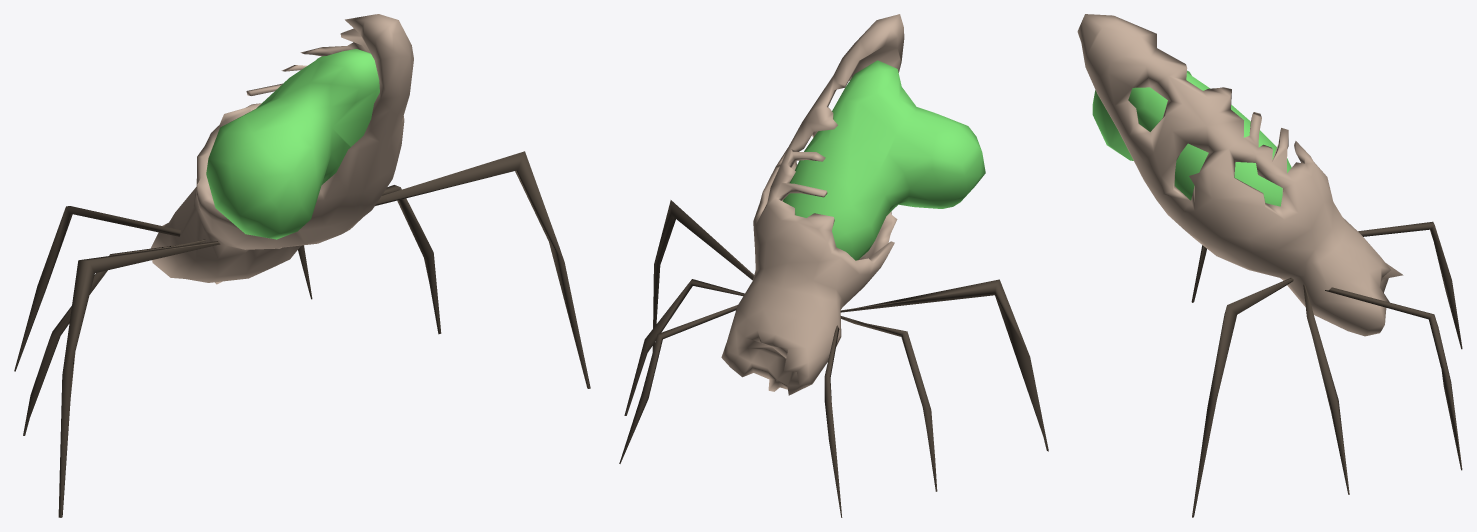
File: Context2_creature_attempt.fbx
3 renders of one model, left to right at view 1: azimuth 30°, elevation 25°; view 2: azimuth 150°, elevation 25°; view 3: azimuth 270°, elevation 25°, orthographic. The views are drawn at different scales.
Parts seen in each view (by area): view 1: Blob.001, Cube.001, BezierCurve.003, BezierCurve.006, BezierCurve.008, BezierCurve.007, BezierCurve.004; view 2: Cube.001, Blob.001, BezierCurve.006, BezierCurve.003, BezierCurve.007, BezierCurve.005, BezierCurve.004, BezierCurve.008; view 3: Cube.001, Blob.001, BezierCurve.003, BezierCurve.005, BezierCurve.004, BezierCurve.008.
Boxes of the visible parts, bbox=[...] form: Blob.001: bbox=[206, 49, 379, 239]; Cube.001: bbox=[150, 14, 413, 284]; BezierCurve.003: bbox=[375, 151, 590, 388]; BezierCurve.006: bbox=[58, 241, 220, 517]; BezierCurve.008: bbox=[14, 206, 180, 371]; BezierCurve.007: bbox=[23, 239, 206, 435]; BezierCurve.004: bbox=[382, 185, 441, 334]; Cube.001: bbox=[721, 14, 904, 395]; Blob.001: bbox=[783, 60, 985, 260]; BezierCurve.006: bbox=[840, 279, 1048, 451]; BezierCurve.003: bbox=[652, 200, 753, 351]; BezierCurve.007: bbox=[840, 316, 937, 491]; BezierCurve.005: bbox=[619, 305, 737, 463]; BezierCurve.004: bbox=[624, 279, 744, 415]; BezierCurve.008: bbox=[824, 325, 842, 517]; Cube.001: bbox=[1077, 14, 1403, 336]; Blob.001: bbox=[1092, 70, 1291, 206]; BezierCurve.003: bbox=[1192, 278, 1293, 517]; BezierCurve.005: bbox=[1325, 287, 1462, 470]; BezierCurve.004: bbox=[1303, 284, 1349, 494]; BezierCurve.008: bbox=[1358, 221, 1462, 349].
Size of the model in its own units: 172 by 147 by 130.
